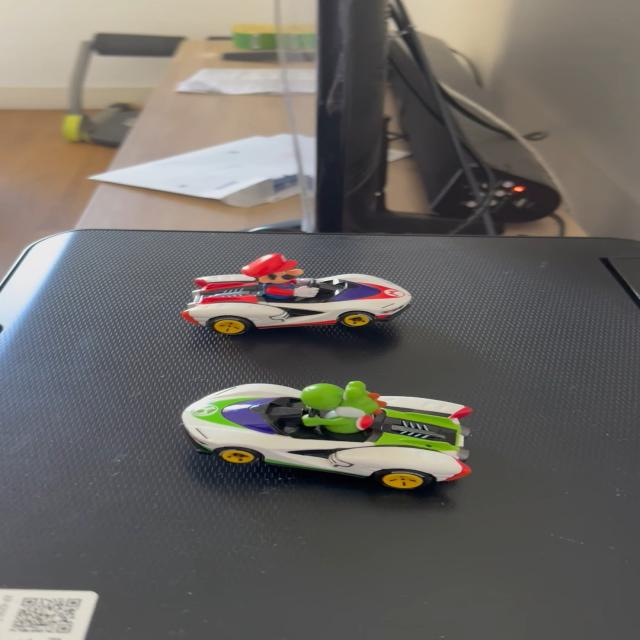mario: (174, 252, 421, 338)
yoshi: (168, 366, 489, 488)
